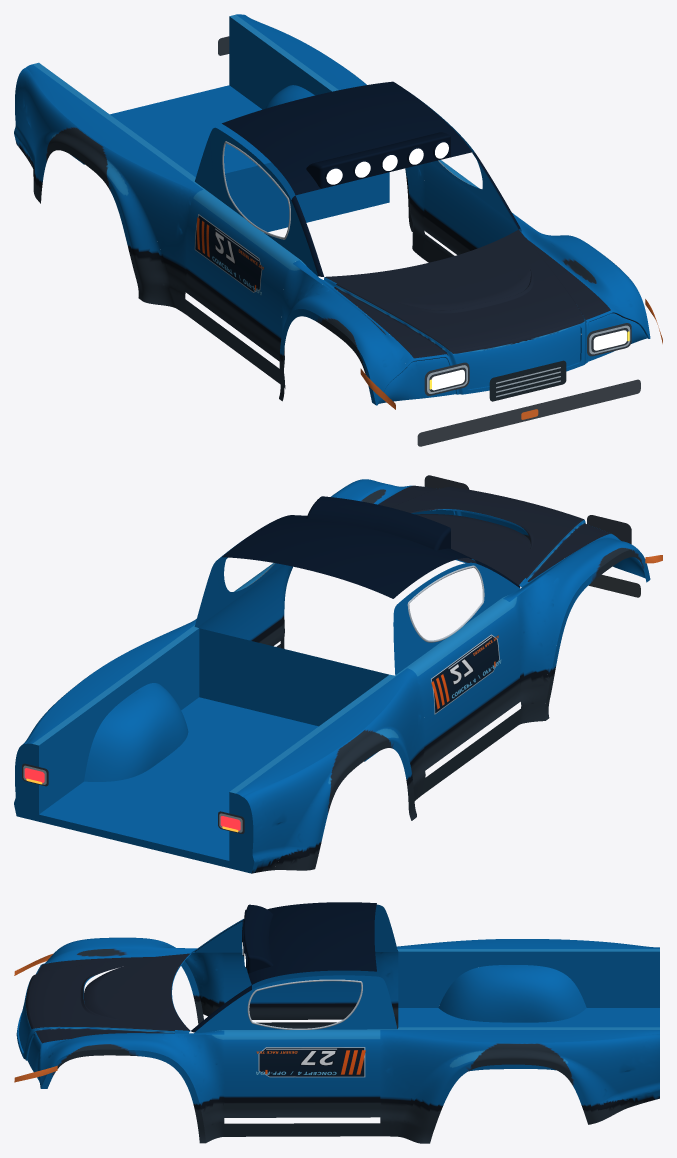
The model's file is FF_SC_Concept4_Desert_Racer.gltf.
3 renders of one model, top to bottom at view 1: azimuth 30°, elevation 25°; view 2: azimuth 150°, elevation 25°; view 3: azimuth 270°, elevation 25°, orthographic. The views are drawn at different scales.
Parts seen in each view (by area): view 1: Concept4 desert racing details - grille, LED lights and deca, Surface 8 (optimized open-window shell), Surface 79 (optimized open-window shell), Surface 26 (optimized open-window shell), Surface 34 (optimized open-window shell), Surface 40 (optimized open-window shell), Surface 82 (optimized open-window shell), Surface 55 (optimized open-window shell), Surface 25 (optimized open-window shell), Surface 72 (optimized open-window shell), Surface 56 (optimized open-window shell), Surface 30 (optimized open-window shell) (+25 smaller); view 2: Surface 55 (optimized open-window shell), Surface 26 (optimized open-window shell), Surface 56 (optimized open-window shell), Surface 34 (optimized open-window shell), Surface 8 (optimized open-window shell), Surface 54 (optimized open-window shell), Surface 44 (optimized open-window shell), Surface 14 (optimized open-window shell), Surface 40 (optimized open-window shell), Concept4 desert racing details - grille, LED lights and deca, Surface 30 (optimized open-window shell), Surface 82 (optimized open-window shell) (+24 smaller); view 3: Surface 69 (optimized open-window shell), Surface 15 (optimized open-window shell), Surface 72 (optimized open-window shell), Surface 13 (optimized open-window shell), Surface 79 (optimized open-window shell), Surface 66 (optimized open-window shell), Surface 34 (optimized open-window shell), Surface 8 (optimized open-window shell), Surface 82 (optimized open-window shell), Concept4 right cab-side skin with curved full-size window op, Concept4 desert racing details - grille, LED lights and deca, Surface 77 (optimized open-window shell) (+26 smaller).
Boxes of the visible parts, x1=… form: Concept4 desert racing details - grille, LED lights and deca: x1=194, y1=36, x2=662, y2=446; Surface 8 (optimized open-window shell): x1=325, y1=262, x2=520, y2=358; Surface 79 (optimized open-window shell): x1=433, y1=229, x2=610, y2=336; Surface 26 (optimized open-window shell): x1=14, y1=67, x2=196, y2=315; Surface 34 (optimized open-window shell): x1=186, y1=193, x2=292, y2=349; Surface 40 (optimized open-window shell): x1=222, y1=97, x2=371, y2=195; Surface 82 (optimized open-window shell): x1=309, y1=81, x2=472, y2=157; Surface 55 (optimized open-window shell): x1=134, y1=85, x2=270, y2=173; Surface 25 (optimized open-window shell): x1=31, y1=131, x2=175, y2=307; Surface 72 (optimized open-window shell): x1=423, y1=160, x2=517, y2=253; Surface 56 (optimized open-window shell): x1=229, y1=16, x2=331, y2=109; Surface 30 (optimized open-window shell): x1=287, y1=273, x2=399, y2=404; Surface 55 (optimized open-window shell): x1=39, y1=697, x2=293, y2=837; Surface 26 (optimized open-window shell): x1=243, y1=671, x2=425, y2=873; Surface 56 (optimized open-window shell): x1=39, y1=628, x2=199, y2=814; Surface 34 (optimized open-window shell): x1=414, y1=602, x2=520, y2=759; Surface 8 (optimized open-window shell): x1=451, y1=500, x2=610, y2=584; Surface 54 (optimized open-window shell): x1=84, y1=683, x2=188, y2=781; Surface 44 (optimized open-window shell): x1=199, y1=628, x2=294, y2=720; Surface 14 (optimized open-window shell): x1=134, y1=720, x2=318, y2=860; Surface 40 (optimized open-window shell): x1=309, y1=529, x2=471, y2=598; Concept4 desert racing details - grille, LED lights and deca: x1=22, y1=475, x2=662, y2=833; Surface 30 (optimized open-window shell): x1=522, y1=538, x2=639, y2=684; Surface 82 (optimized open-window shell): x1=222, y1=515, x2=372, y2=570; Surface 69 (optimized open-window shell): x1=380, y1=1034, x2=659, y2=1136; Surface 15 (optimized open-window shell): x1=398, y1=951, x2=659, y2=1007; Surface 72 (optimized open-window shell): x1=224, y1=1034, x2=380, y2=1108; Surface 13 (optimized open-window shell): x1=438, y1=965, x2=586, y2=1022; Surface 79 (optimized open-window shell): x1=28, y1=992, x2=190, y2=1043; Surface 66 (optimized open-window shell): x1=397, y1=1048, x2=629, y2=1143; Surface 34 (optimized open-window shell): x1=224, y1=952, x2=380, y2=1014; Surface 8 (optimized open-window shell): x1=28, y1=953, x2=190, y2=1001; Surface 82 (optimized open-window shell): x1=248, y1=931, x2=376, y2=984; Concept4 right cab-side skin with curved full-size window op: x1=194, y1=975, x2=397, y2=1032; Concept4 desert racing details - grille, LED lights and deca: x1=14, y1=953, x2=365, y2=1082; Surface 77 (optimized open-window shell): x1=41, y1=1033, x2=203, y2=1115.
Bounding box in the file's own units: 2.19 × 1.47 × 5.3.
Materials: 11 (1 with a texture image).
